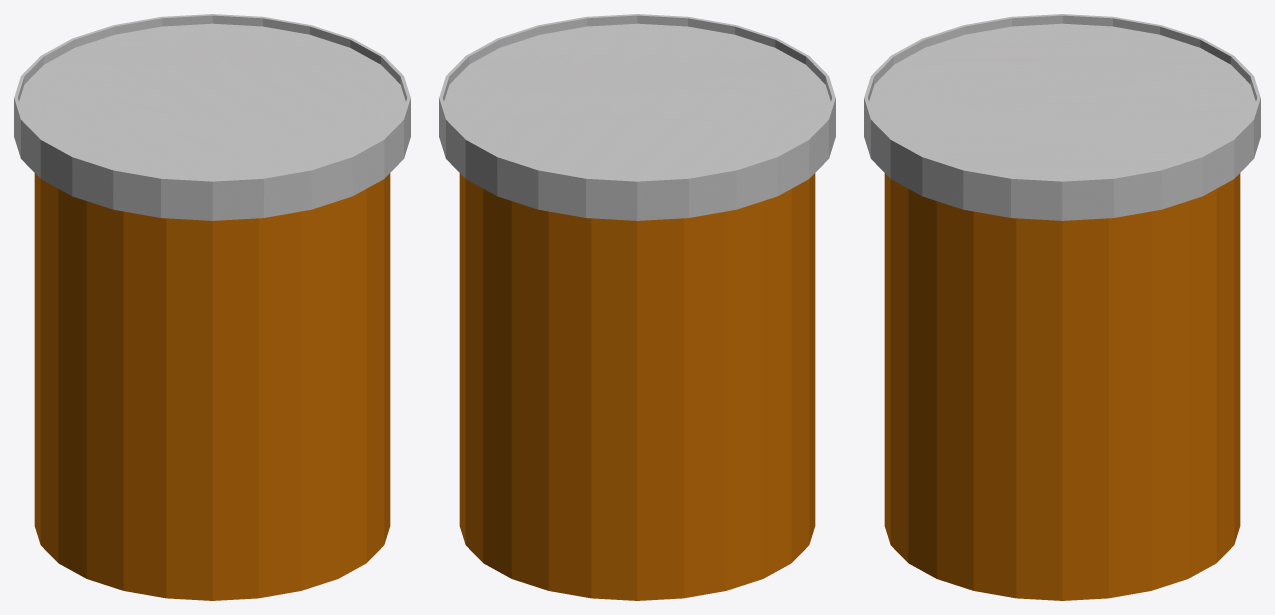
The picture shows the model from 3 angles, left to right: view 1: azimuth 30°, elevation 25°; view 2: azimuth 150°, elevation 25°; view 3: azimuth 270°, elevation 25°; orthographic projection.
Visible parts, largest first — view 1: mesh73_mesh73-geometry; view 2: mesh73_mesh73-geometry; view 3: mesh73_mesh73-geometry.
Boxes of the visible parts, bbox=[...] form: mesh73_mesh73-geometry: bbox=[14, 14, 410, 600]; mesh73_mesh73-geometry: bbox=[439, 14, 835, 600]; mesh73_mesh73-geometry: bbox=[864, 14, 1260, 600].
Bounding box in the file's own units: 0.541 × 0.644 × 0.541.
